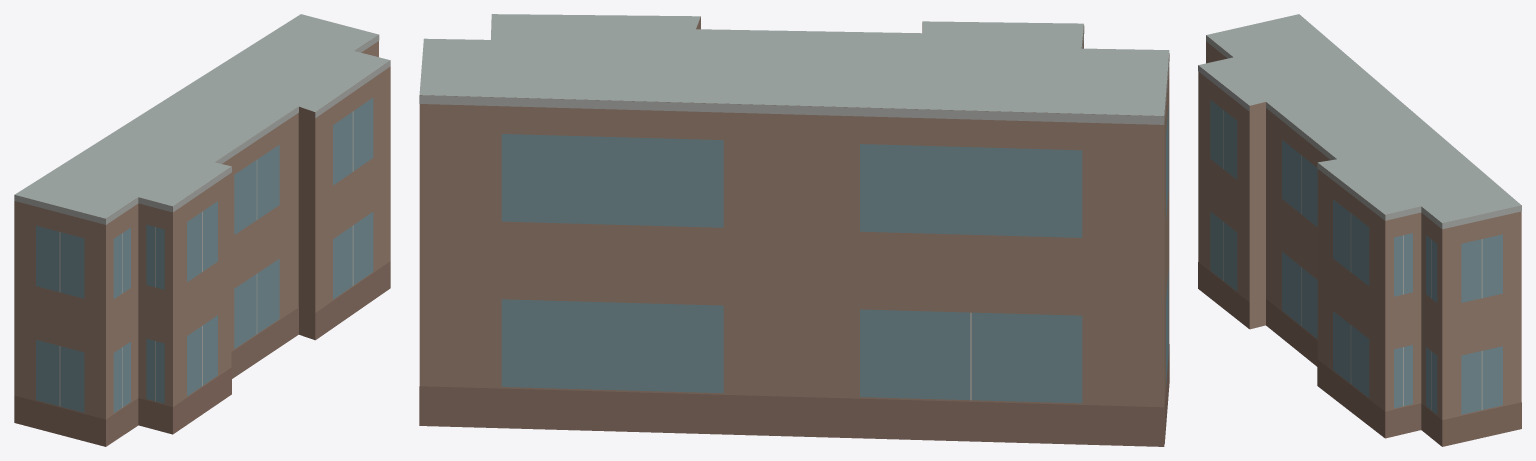
File: survey-upis-32838286.glb
The picture shows the model from 3 angles, left to right: view 1: azimuth 30°, elevation 25°; view 2: azimuth 150°, elevation 25°; view 3: azimuth 270°, elevation 25°; orthographic projection. The views are drawn at different scales.
Parts seen in each view (by area): view 1: survey-upis-32838286.tmp; view 2: survey-upis-32838286.tmp; view 3: survey-upis-32838286.tmp.
Boxes of the visible parts, x1,y1,x2,y2 form: survey-upis-32838286.tmp: (14, 14, 390, 446); survey-upis-32838286.tmp: (419, 14, 1169, 446); survey-upis-32838286.tmp: (1198, 14, 1521, 446).
Size of the model in its own units: 18.24 by 9.08 by 11.92.
